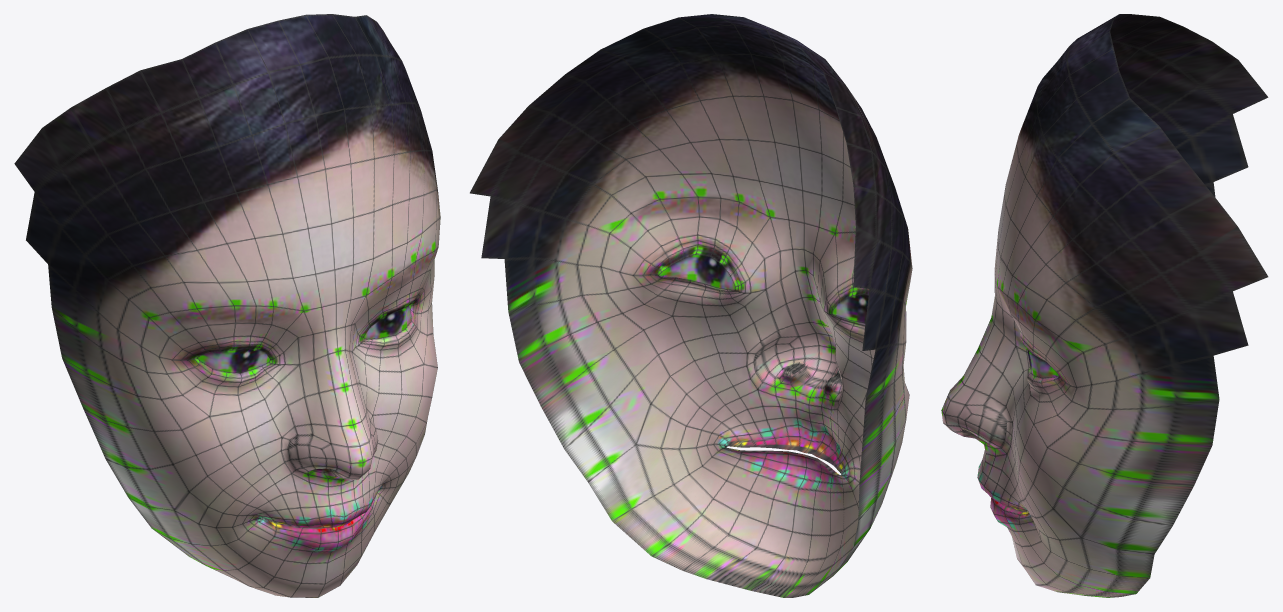
File: W_head_Blend.fbx
The picture shows the model from 3 angles, left to right: view 1: azimuth 30°, elevation 25°; view 2: azimuth 150°, elevation 25°; view 3: azimuth 270°, elevation 25°; orthographic projection. The views are drawn at different scales.
Visible parts, largest first — view 1: W_Head; view 2: W_Head; view 3: W_Head.
Boxes of the visible parts, left/top/right/bottom form: W_Head: left=14, top=14, right=440, bottom=597; W_Head: left=470, top=14, right=912, bottom=597; W_Head: left=941, top=14, right=1268, bottom=597.
Bounding box in the file's own units: 16.53 × 23.82 × 12.73.
